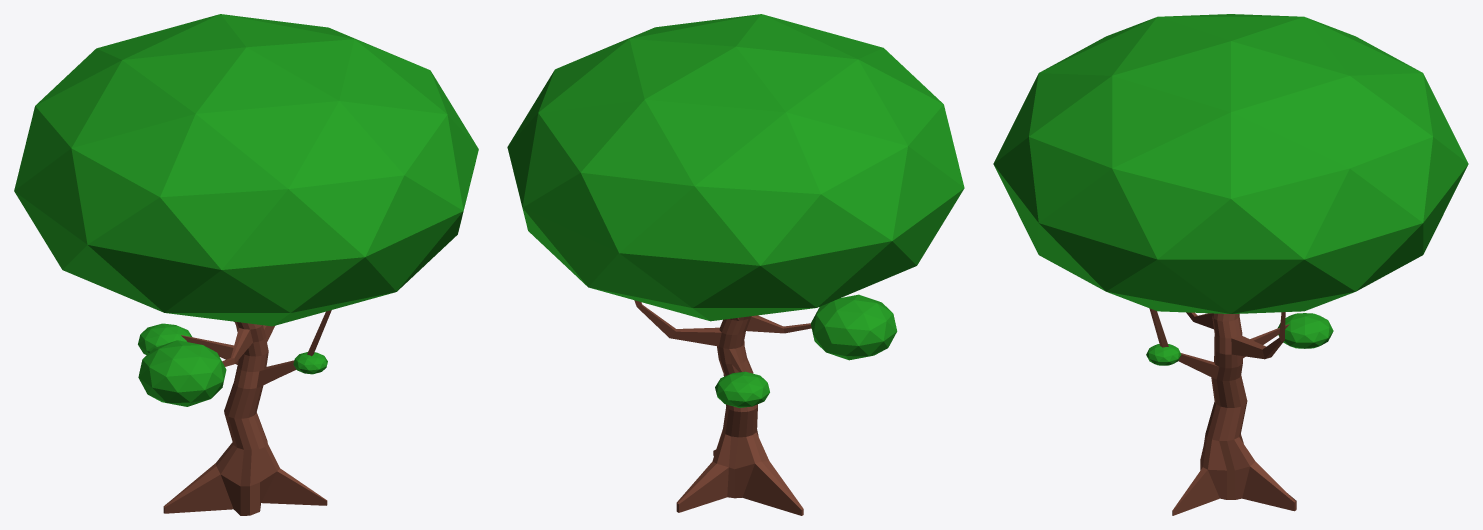
Rendered from tree02.fbx.
The picture shows the model from 3 angles, left to right: view 1: azimuth 30°, elevation 25°; view 2: azimuth 150°, elevation 25°; view 3: azimuth 270°, elevation 25°; orthographic projection.
Visible parts, largest first — view 1: tree; view 2: tree; view 3: tree.
Boxes of the visible parts, left/top/right/bottom form: tree: left=14, top=14, right=478, bottom=515; tree: left=507, top=14, right=964, bottom=515; tree: left=993, top=14, right=1468, bottom=515.
Size of the model in its own units: 785 by 875 by 825.
